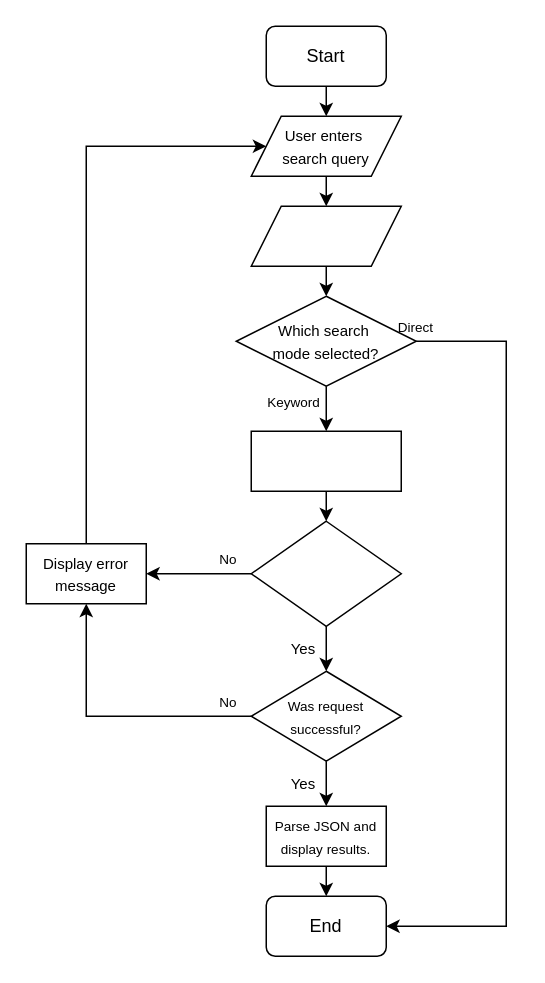
Image size: 545x983. Some labels were removed from this diagram. The centre of each missing label's shape, as x and y in pixels:
Send API request to Youtube for search results: point 325,460
User selects search mode: point 325,235
Was a response recieved?: point 325,573
